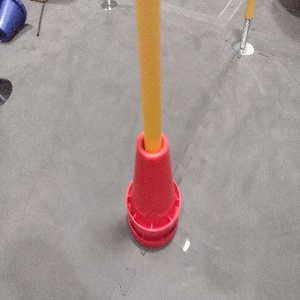Blue_1: (0, 0, 29, 41)
Red_2: (122, 129, 181, 247)
